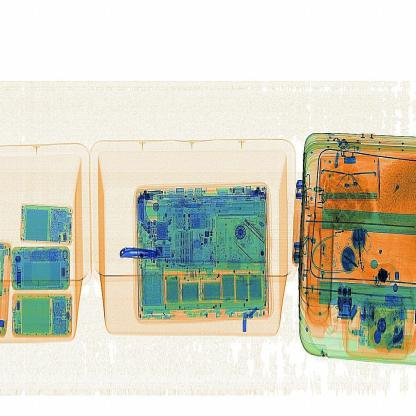knife: (115, 241, 170, 263)
